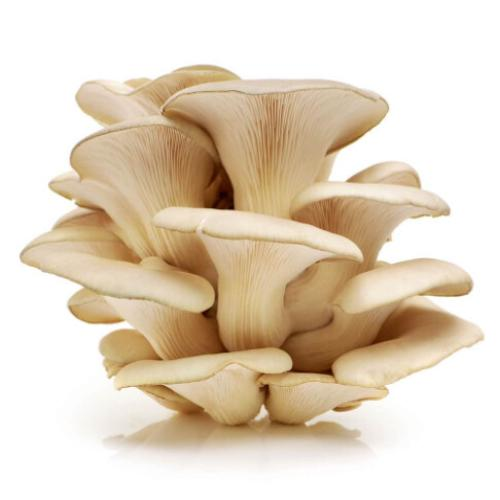Oyster Mushroom: (146, 0, 392, 239), (124, 132, 366, 373), (229, 125, 451, 342), (8, 202, 245, 379), (272, 229, 475, 379), (60, 111, 221, 278), (319, 276, 483, 408), (115, 348, 292, 424), (73, 53, 243, 130), (260, 371, 387, 423)
